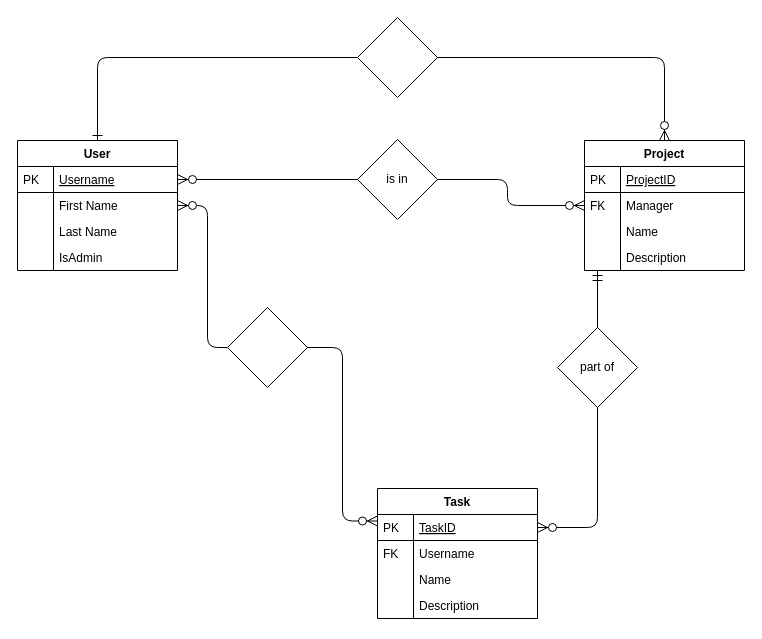
Image size: 762x639. Some labels were removed from this diagram. The shapes that lost their labels are listed below. From the top down, each one's centre as x and y in pixels, then its label:
(397,57): created
(267,347): works on
